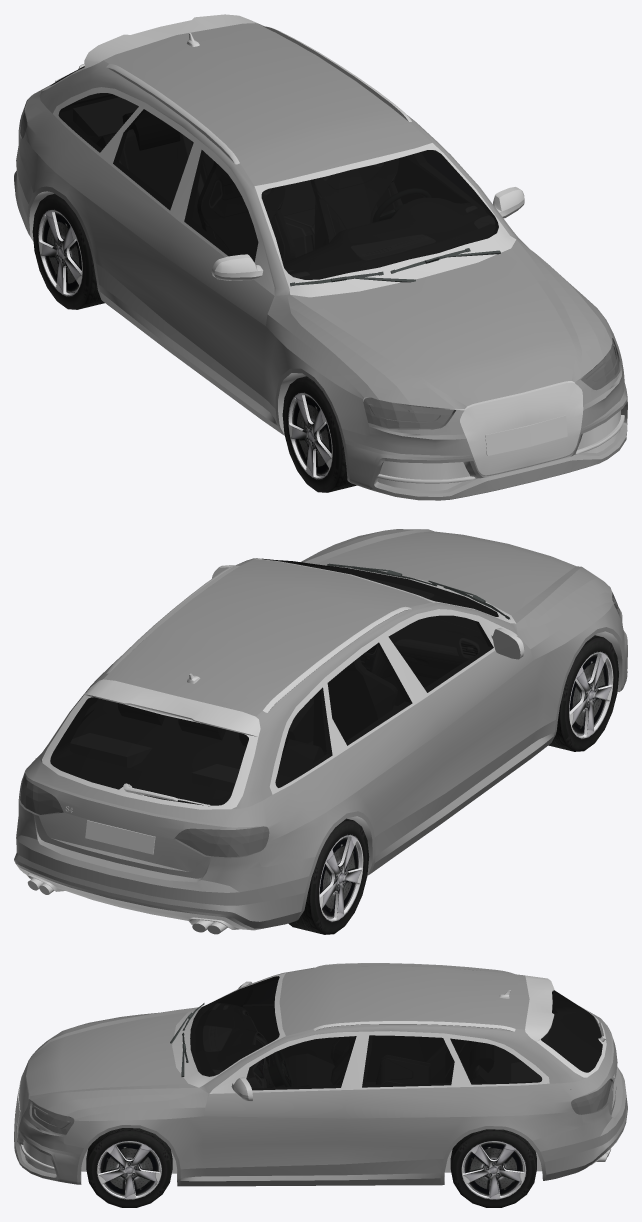
File: car_25_n.FBX
3 renders of one model, top to bottom at view 1: azimuth 30°, elevation 25°; view 2: azimuth 150°, elevation 25°; view 3: azimuth 270°, elevation 25°, orthographic. The views are drawn at different scales.
Parts seen in each view (by area): view 1: corpus, Body, Wheel_FR, Wheel_BR, gl, light_02; view 2: corpus, Body, Wheel_BR, Wheel_FR, gl, light_01; view 3: corpus, Body, Wheel_FL, Wheel_BL, gl, light_01, light_02.
Part boxes in pixels (<box>): corpus: <box>14,23,627,500</box>; Body: <box>18,14,624,490</box>; Wheel_FR: <box>282,376,356,492</box>; Wheel_BR: <box>32,193,104,309</box>; gl: <box>18,102,620,429</box>; light_02: <box>363,339,618,428</box>; corpus: <box>14,529,627,928</box>; Body: <box>16,558,622,934</box>; Wheel_BR: <box>288,818,369,934</box>; Wheel_FR: <box>548,635,618,751</box>; gl: <box>18,592,620,858</box>; light_01: <box>20,775,269,857</box>; corpus: <box>14,966,627,1186</box>; Body: <box>15,963,623,1183</box>; Wheel_FL: <box>86,1128,172,1207</box>; Wheel_BL: <box>450,1129,536,1207</box>; gl: <box>29,1078,613,1134</box>; light_01: <box>571,1079,611,1114</box>; light_02: <box>32,1103,73,1134</box>.
Size of the model in its own units: 1.42 by 1.01 by 3.34.
